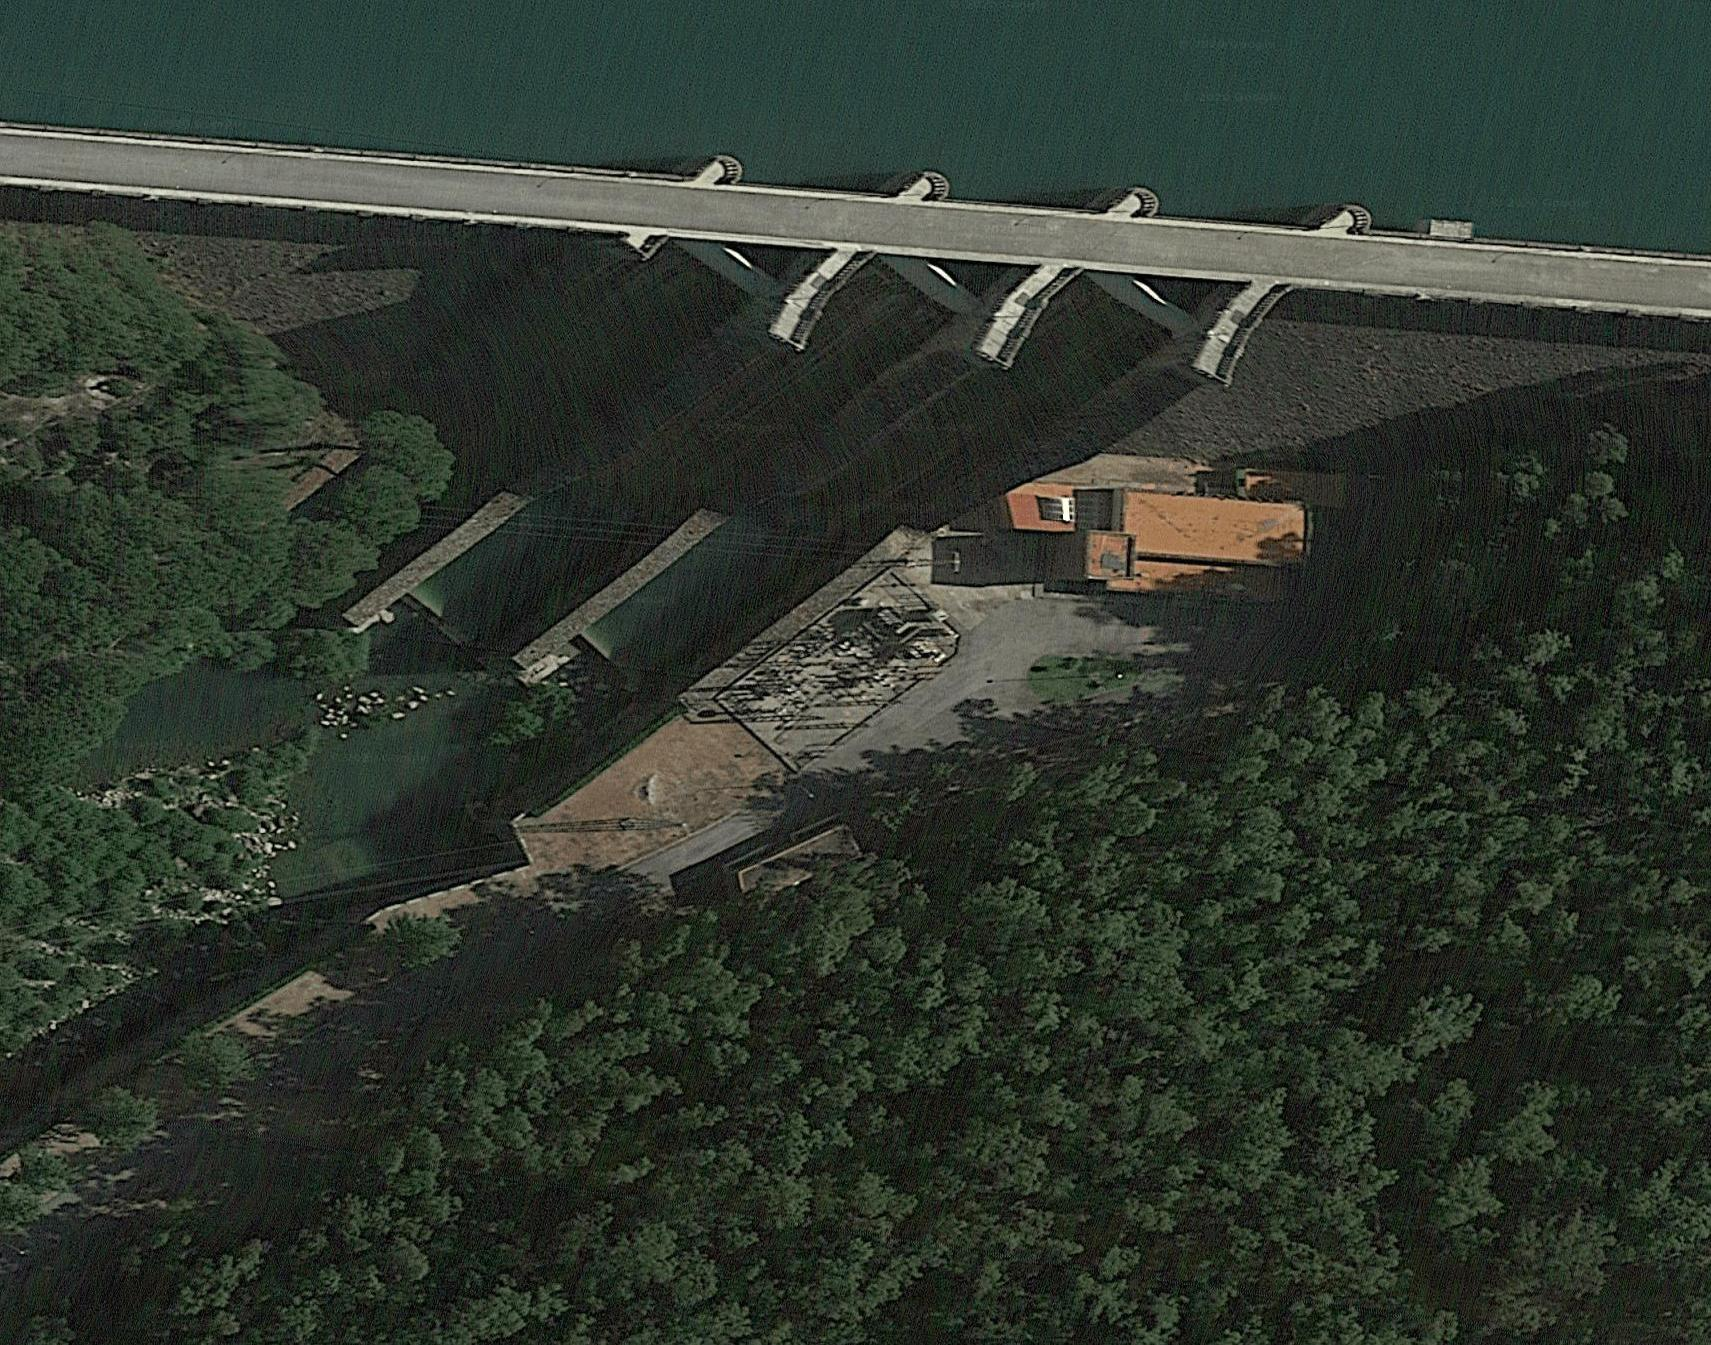substation: (704, 591, 969, 767)
